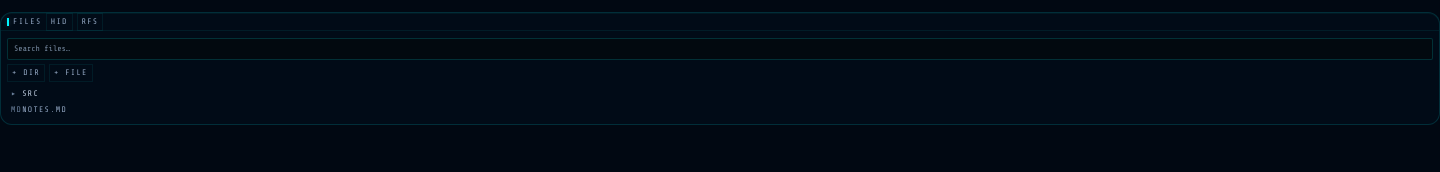
Test: FileExplorer › refuses to create a file over an existing one
The width and height of the screenshot is (1440, 172).
Click the button with aria-label "New file" at [71, 73], box left=49, top=64, right=93, bottom=82
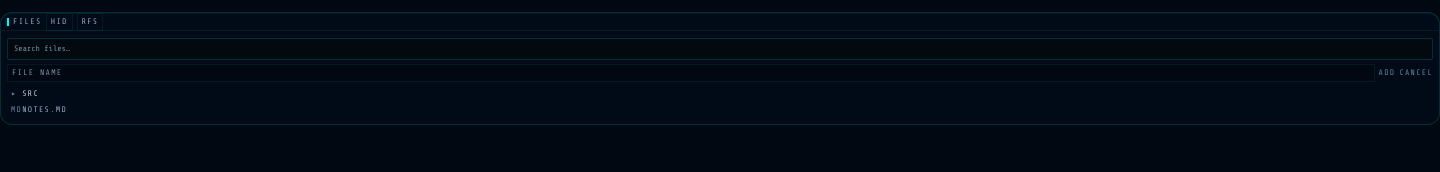
Type "notes.md" into the field named "New file name" at [691, 73], box left=7, top=64, right=1375, bottom=82
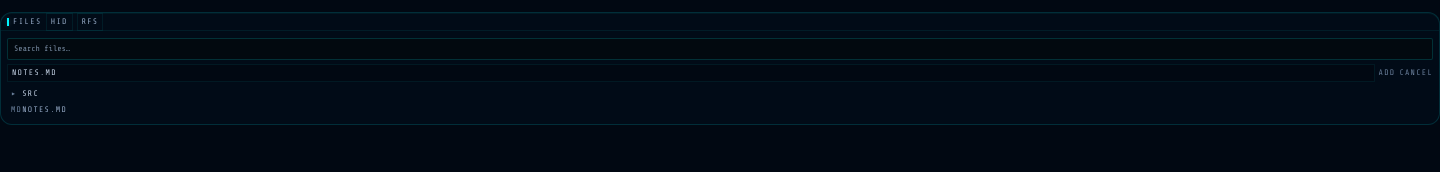
Submit the form named "New file name", box left=1, top=64, right=1439, bottom=86
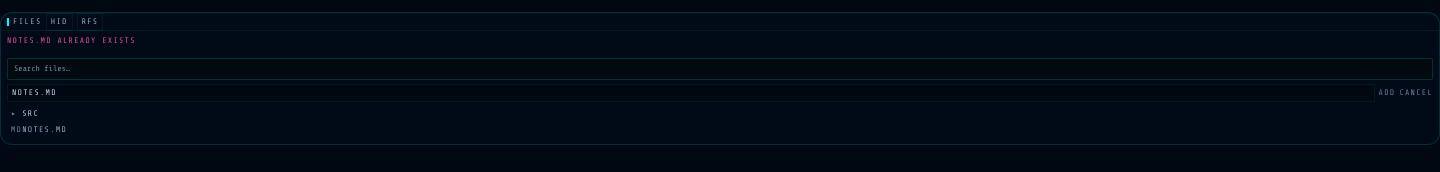
Check: the message reads "notes.md already exists", box left=7, top=36, right=136, bottom=45
